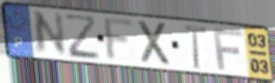F: (102, 16, 137, 64), (211, 27, 245, 72)
N: (32, 10, 68, 56)
T: (182, 23, 208, 71)
X: (136, 19, 173, 68)
Z: (62, 13, 103, 62)
